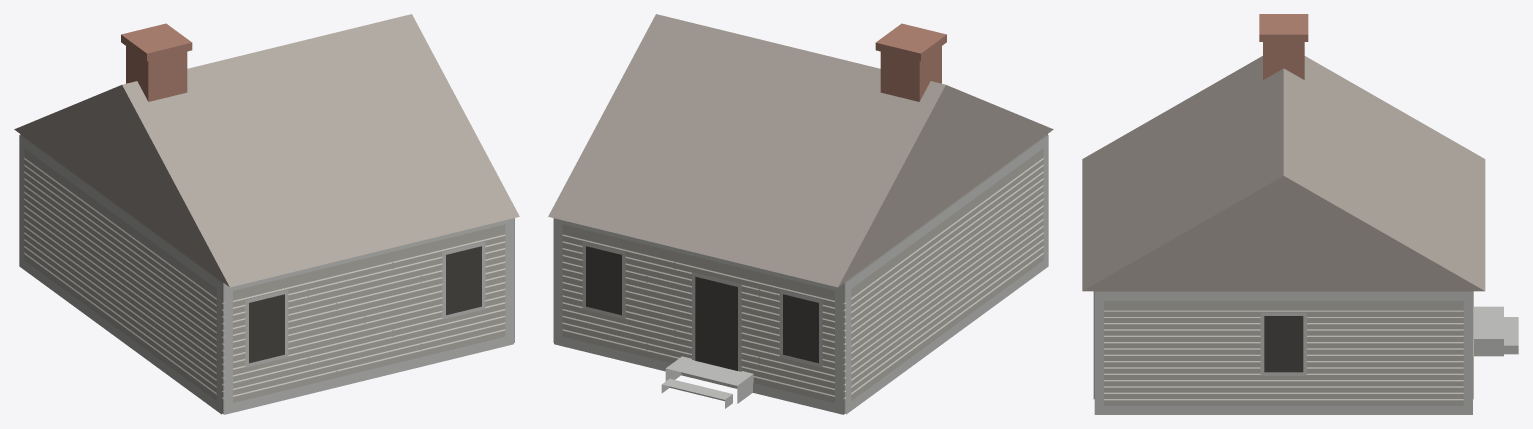
Rendered from recon_1835_blk_randolph_market_d4_03__inferred_1835.glb.
3 views of the same model, side by side, from view 1: azimuth 30°, elevation 25°; view 2: azimuth 150°, elevation 25°; view 3: azimuth 270°, elevation 25° (orthographic). The views are drawn at different scales.
Parts seen in each view (by area): view 1: recon_1835_blk_randolph_market_d4_03__inferred_1835; view 2: recon_1835_blk_randolph_market_d4_03__inferred_1835; view 3: recon_1835_blk_randolph_market_d4_03__inferred_1835.
Part boxes in pixels (x1,y1,x2,y2): recon_1835_blk_randolph_market_d4_03__inferred_1835: [14, 14, 519, 414]; recon_1835_blk_randolph_market_d4_03__inferred_1835: [548, 14, 1053, 414]; recon_1835_blk_randolph_market_d4_03__inferred_1835: [1082, 14, 1518, 414].
Size of the model in its own units: 6.36 by 6.06 by 8.77.
